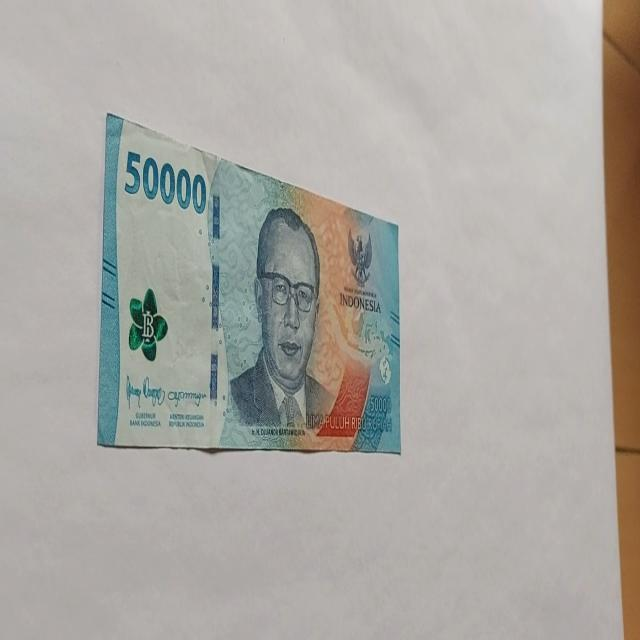lima puluh ribu rupiah: (96, 111, 402, 456), (224, 205, 338, 439)
